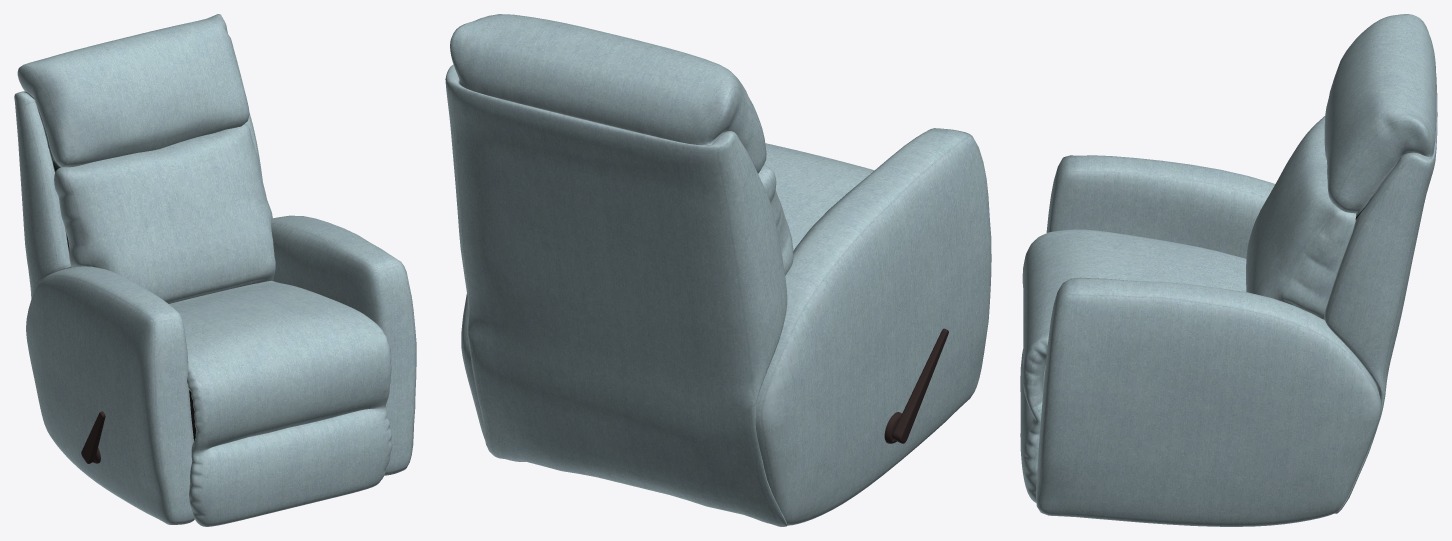
The model's file is abo-B085FJSG58.glb.
The picture shows the model from 3 angles, left to right: view 1: azimuth 30°, elevation 25°; view 2: azimuth 150°, elevation 25°; view 3: azimuth 270°, elevation 25°; orthographic projection. The views are drawn at different scales.
Bounding box in the file's own units: 0.812 × 1.01 × 0.94.
1 material, 1 textured.
